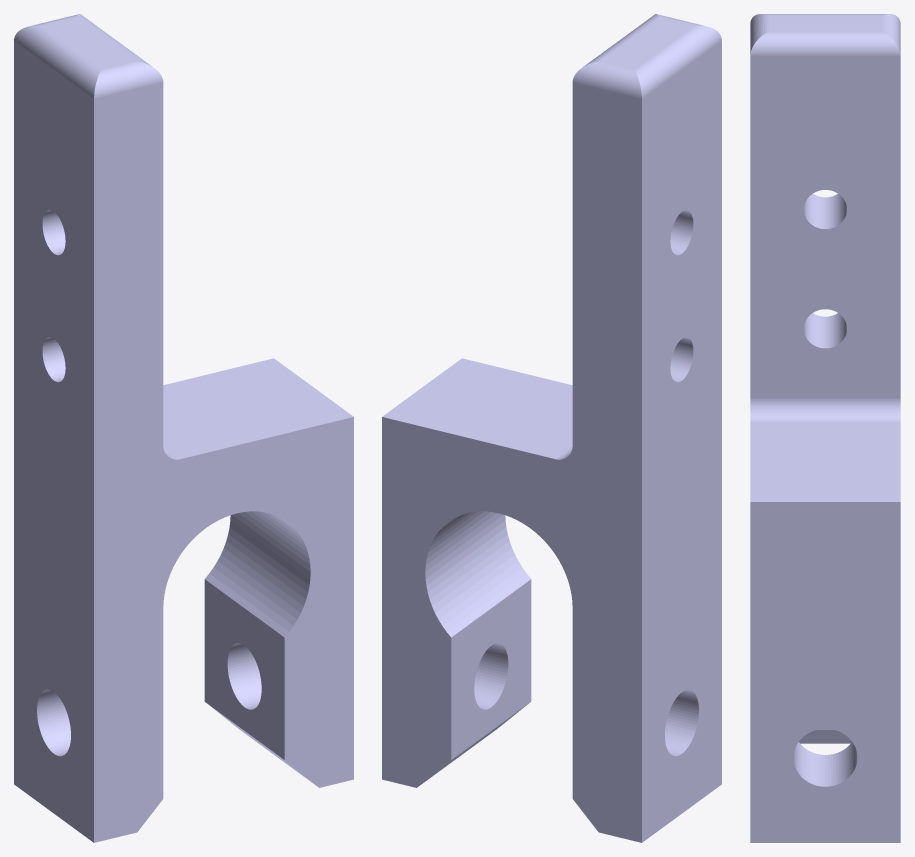
The model's file is y_endstop_approved.glb.
3 renders of one model, left to right at view 1: azimuth 30°, elevation 25°; view 2: azimuth 150°, elevation 25°; view 3: azimuth 270°, elevation 25°, orthographic. The views are drawn at different scales.
Visible parts, largest first — view 1: y_endstop_mesh; view 2: y_endstop_mesh; view 3: y_endstop_mesh.
Part boxes in pixels (left/top/right/bottom): y_endstop_mesh: left=14, top=14, right=353, bottom=842; y_endstop_mesh: left=382, top=14, right=721, bottom=842; y_endstop_mesh: left=750, top=14, right=900, bottom=842.
Bounding box in the file's own units: 0.015 × 0.042 × 0.008.
